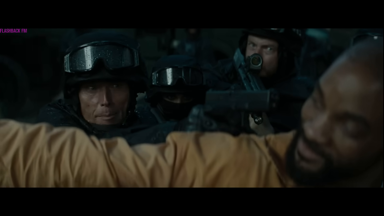firearm: (228, 43, 268, 127), (203, 87, 272, 114)
